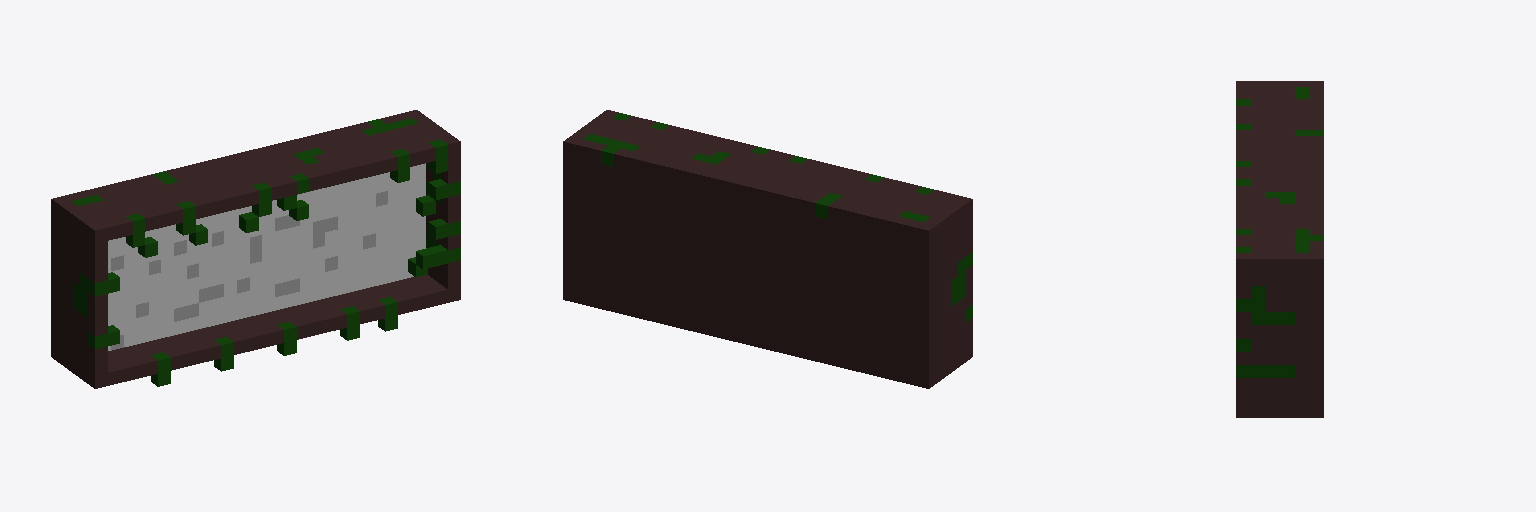
3 views of the same model, side by side, from view 1: azimuth 30°, elevation 25°; view 2: azimuth 150°, elevation 25°; view 3: azimuth 270°, elevation 25° (orthographic).
Parts seen in each view (by area): view 1: object 1; view 2: object 1; view 3: object 1.
Boxes of the visible parts, x1,y1,x2,y2 form: object 1: [51, 110, 460, 388]; object 1: [563, 110, 972, 388]; object 1: [1236, 81, 1323, 417].
Size of the model in its own units: 2.9 by 1.3 by 0.6.
1 materials, 1 textured.